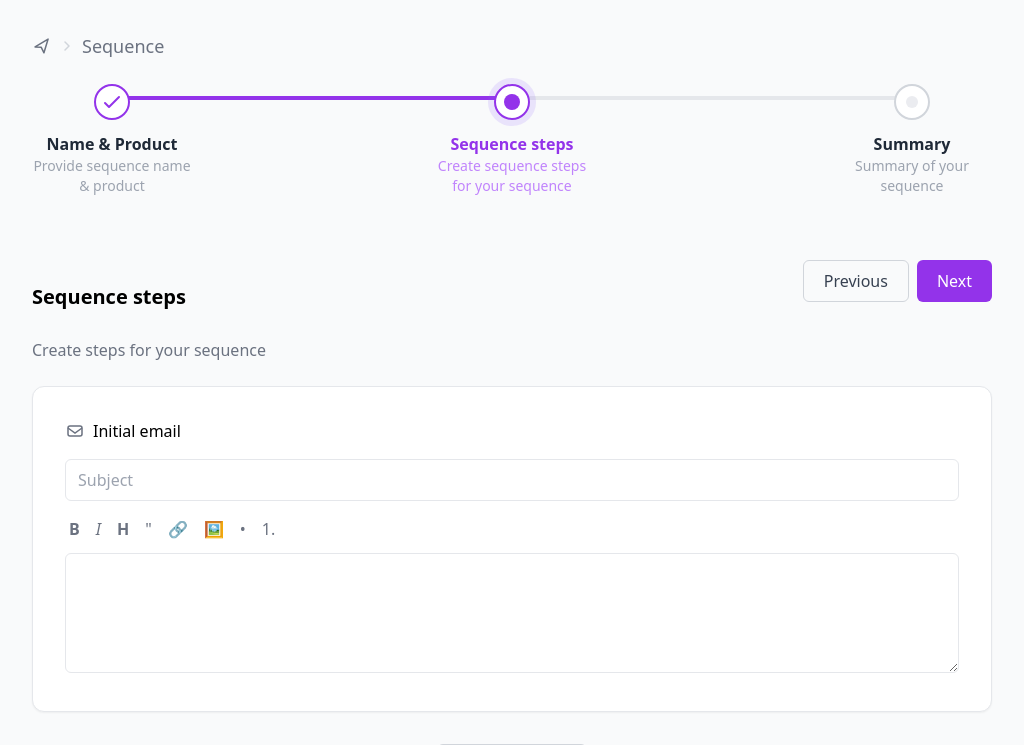
Scenario: SequenceStepsPage › updates subject and label
Type "Hello World" into the field with placeholder "Subject" at (512, 480), box [65, 459, 959, 501]
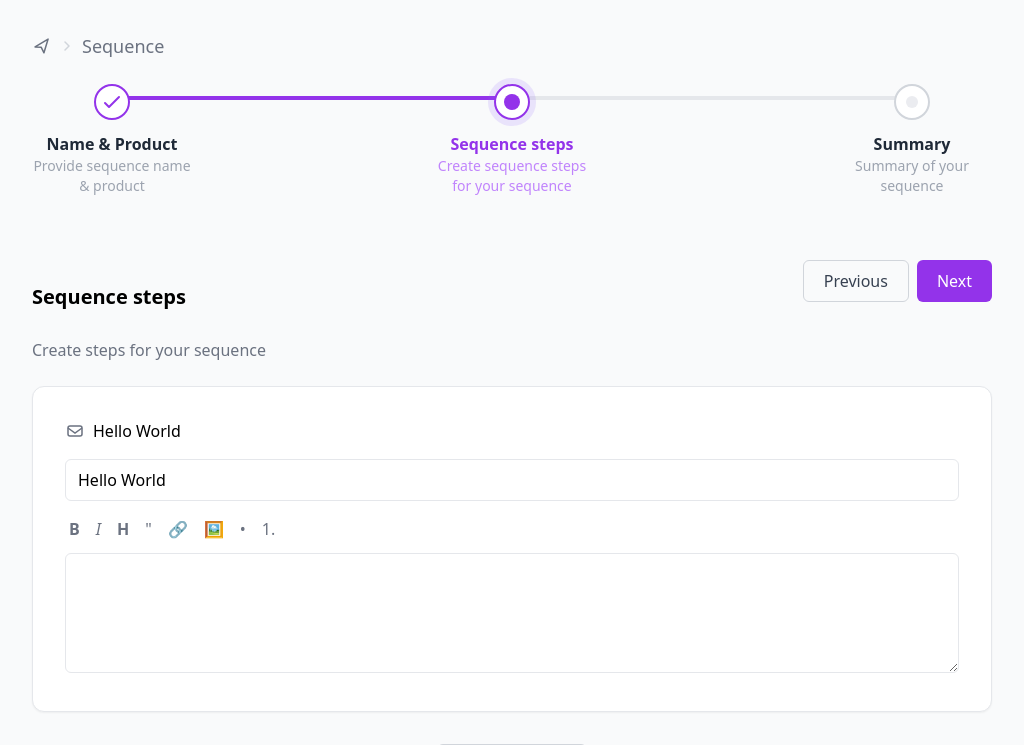
Check: the text "Hello World" is shown, box [93, 419, 181, 443]
